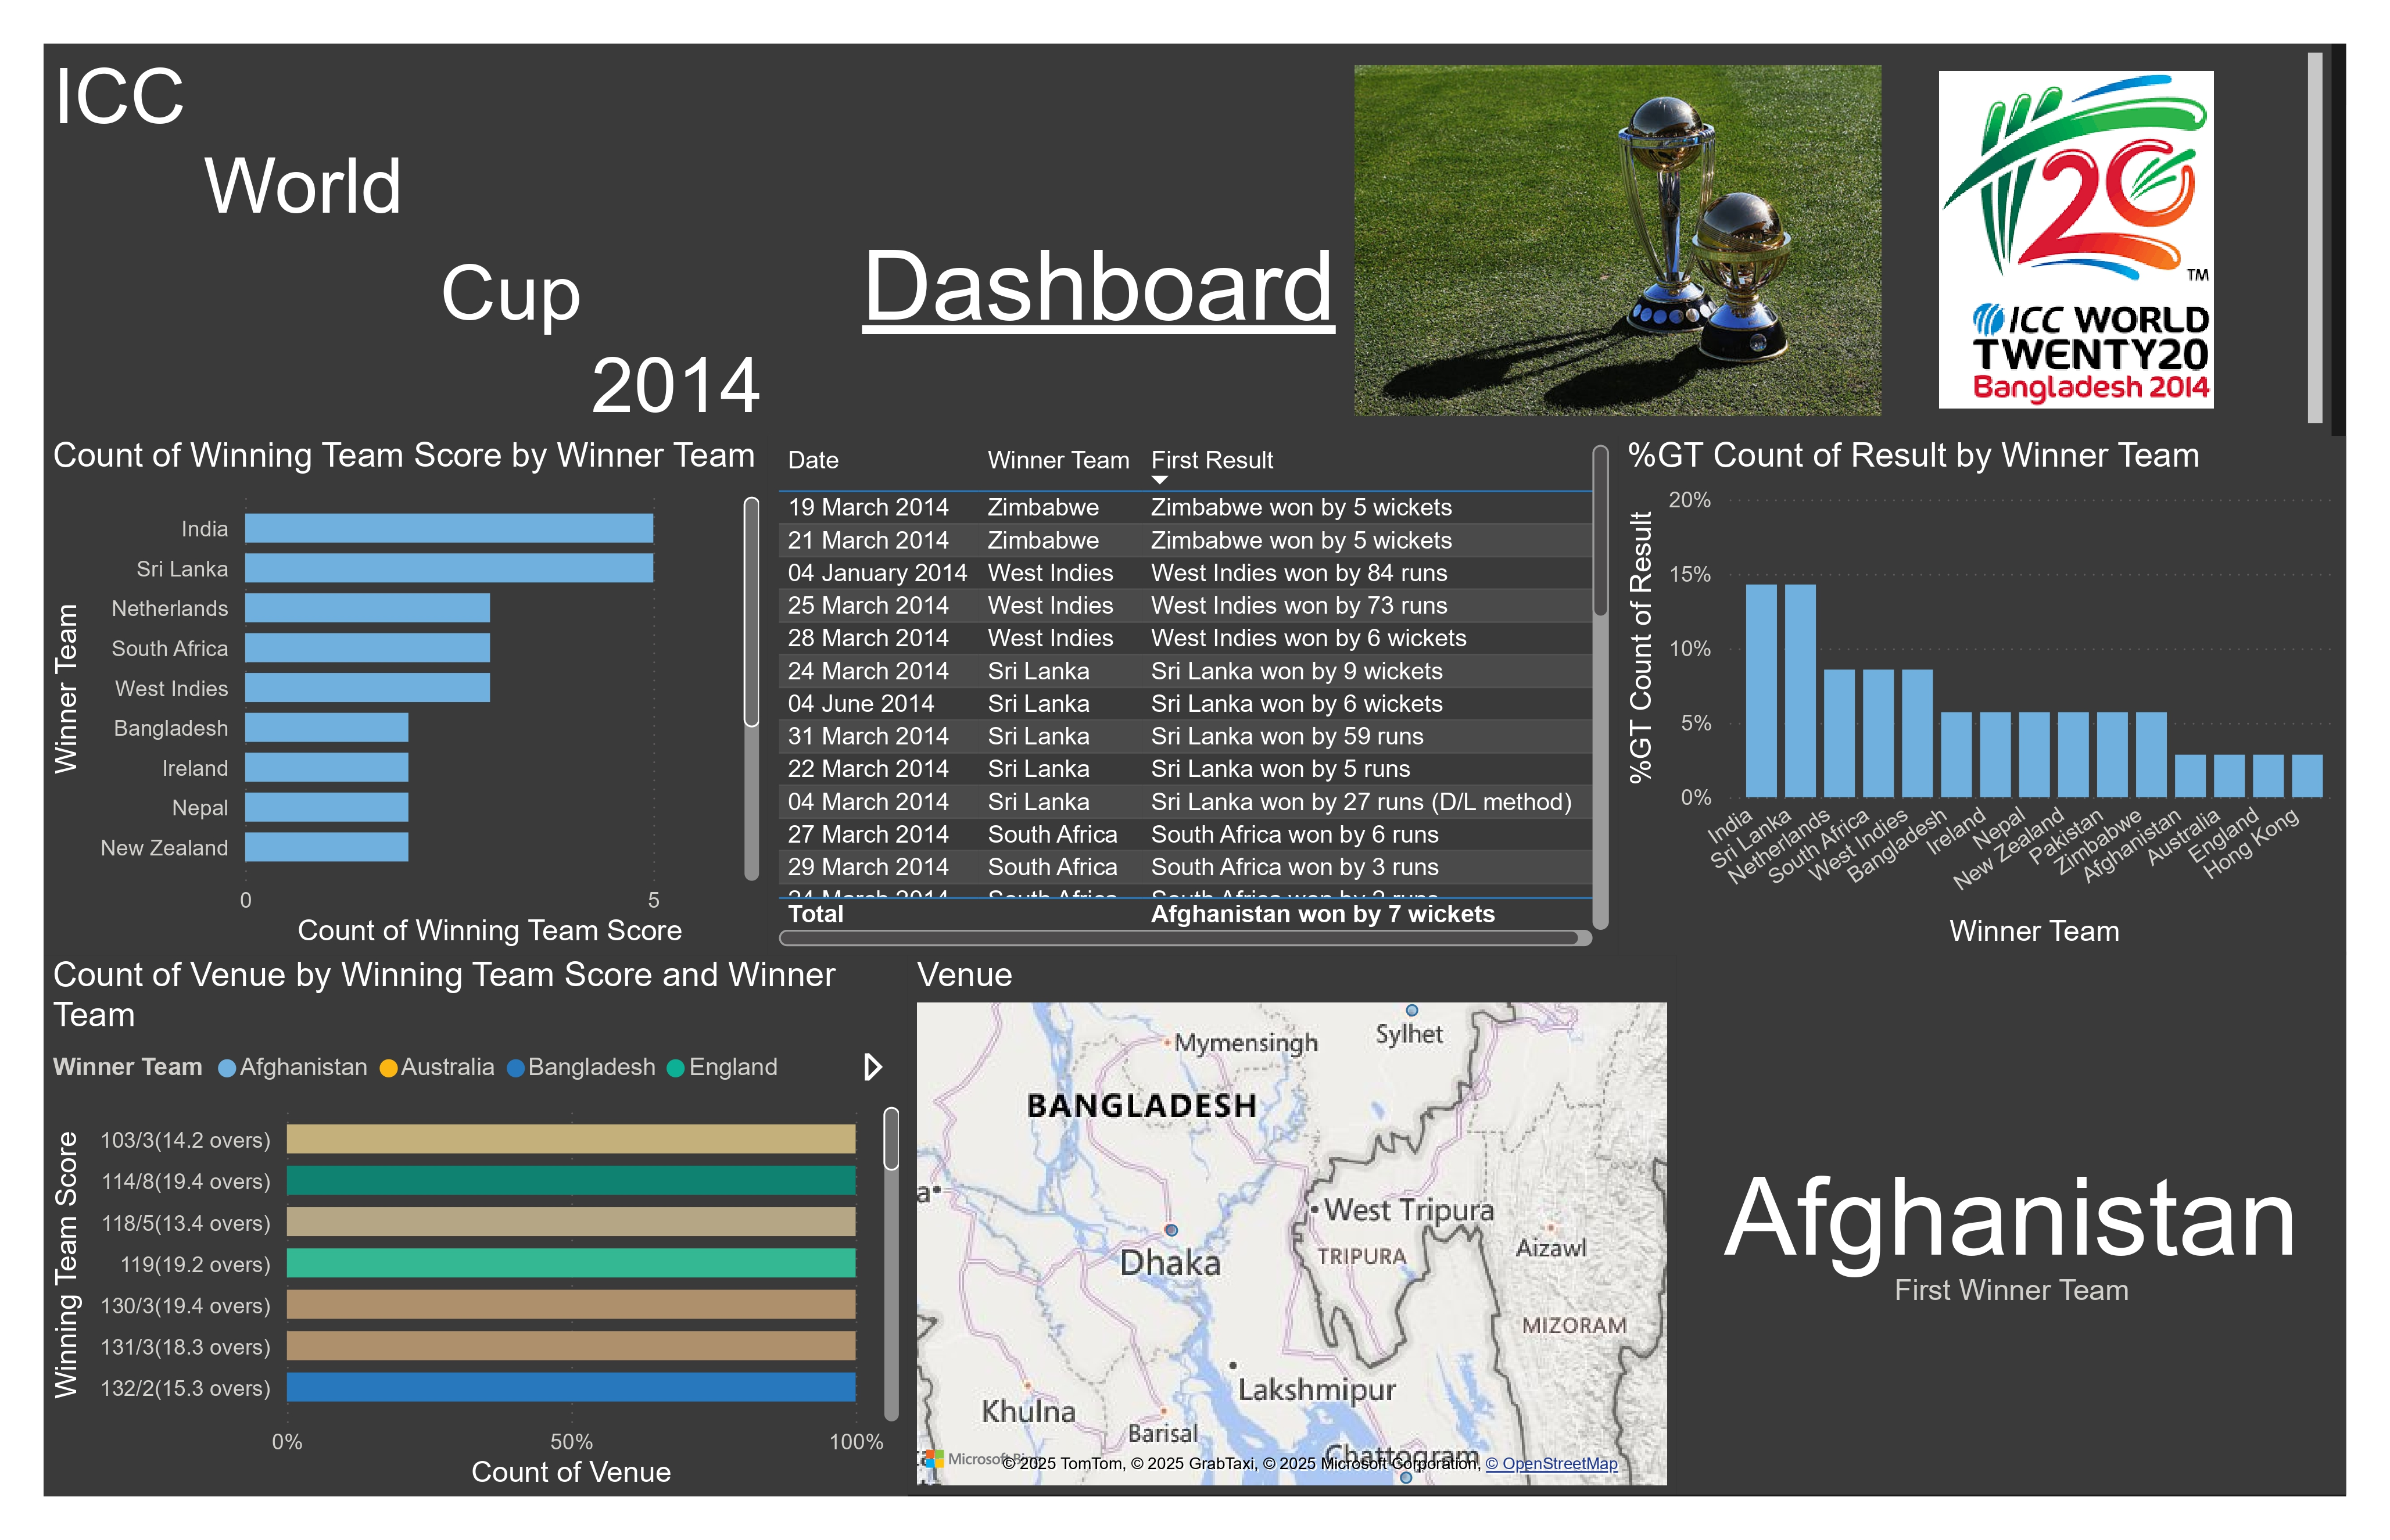

The dashboard page shown, as its layout file describes it:
{"tool":"powerbi","page":{"name":"Page 1","canvas":[1268,800],"ordinal":0},"visuals":[{"type":"barChart","fields":{"Category":["T20 World Cup 2014 matches.Winner Team"],"Y":["CountNonNull(T20 World Cup 2014 matches.Winning Team Score)"]},"box":[0,215.9,398.7,285.7],"z":0},{"type":"hundredPercentStackedBarChart","fields":{"Y":["CountNonNull(T20 World Cup 2014 matches.Venue)"],"Category":["T20 World Cup 2014 matches.Winning Team Score"],"Series":["T20 World Cup 2014 matches.Winner Team"]},"box":[0,501.6,476.2,298.4],"z":1000},{"type":"map","fields":{"Category":["T20 World Cup 2014 matches.Venue"]},"box":[476.2,501.6,422.9,297.1],"z":2000},{"type":"tableEx","fields":{"Values":["T20 World Cup 2014 matches.Date","T20 World Cup 2014 matches.Winner Team","Min(T20 World Cup 2014 matches.Result)"]},"box":[398.7,215.9,468.6,285.7],"z":3000},{"type":"clusteredColumnChart","fields":{"Category":["T20 World Cup 2014 matches.Winner Team"],"Y":["CountNonNull(T20 World Cup 2014 matches.Result)"]},"box":[867.3,215.9,401.3,285.7],"z":4000},{"type":"card","fields":{"Values":["Min(T20 World Cup 2014 matches.Winner Team)"]},"box":[899,500.3,369.5,298.4],"z":5000},{"type":"textbox","box":[0,0,1259.7,215.9],"z":6000},{"type":"image","box":[717.5,0,299.7,215.9],"z":6001},{"type":"image","box":[968.9,10.2,299.7,195.6],"z":6002}]}

Visuals, with their boxes in screenshot pixels (x1, y1, x2, y2):
barChart - T20 World Cup 2014 matches.Winner Team x CountNonNull(T20 World Cup 2014 matches.Winning Team Score): (x1=44, y1=436, x2=768, y2=954)
hundredPercentStackedBarChart - CountNonNull(T20 World Cup 2014 matches.Venue) x T20 World Cup 2014 matches.Winning Team Score: (x1=44, y1=954, x2=908, y2=1496)
map - T20 World Cup 2014 matches.Venue: (x1=908, y1=954, x2=1676, y2=1494)
tableEx - T20 World Cup 2014 matches.Date x T20 World Cup 2014 matches.Winner Team: (x1=768, y1=436, x2=1619, y2=954)
clusteredColumnChart - T20 World Cup 2014 matches.Winner Team x CountNonNull(T20 World Cup 2014 matches.Result): (x1=1619, y1=436, x2=2346, y2=954)
card - Min(T20 World Cup 2014 matches.Winner Team): (x1=1676, y1=952, x2=2346, y2=1494)
textbox: (x1=44, y1=44, x2=2331, y2=436)
image: (x1=1346, y1=44, x2=1891, y2=436)
image: (x1=1803, y1=62, x2=2346, y2=417)
